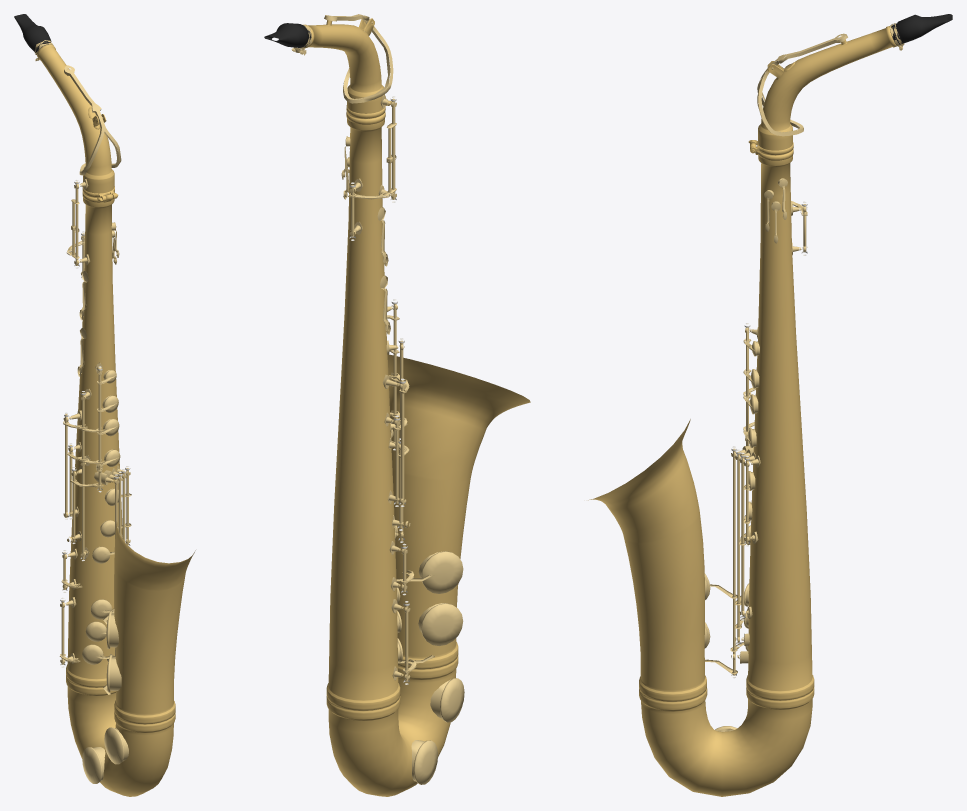
File: alto-sax.glb
3 views of the same model, side by side, from view 1: azimuth 30°, elevation 25°; view 2: azimuth 150°, elevation 25°; view 3: azimuth 270°, elevation 25° (orthographic). The views are drawn at different scales.
Parts seen in each view (by area): view 1: alto_sax; view 2: alto_sax; view 3: alto_sax.
Boxes of the visible parts, x1,y1,x2,y2 form: alto_sax: (14,14,195,796); alto_sax: (264,14,530,796); alto_sax: (588,14,952,796).
Bounding box in the file's own units: 0.1324 × 0.7 × 0.321.
